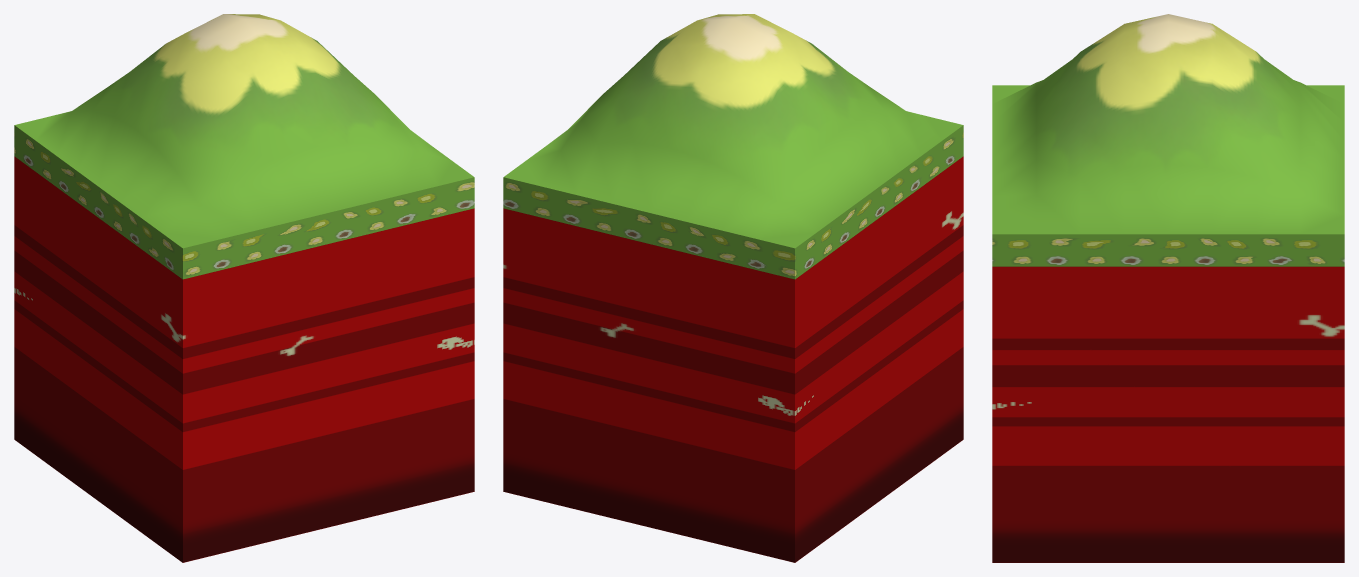
The model's file is block_rect_curved_1x1.obj.
3 renders of one model, left to right at view 1: azimuth 30°, elevation 25°; view 2: azimuth 150°, elevation 25°; view 3: azimuth 270°, elevation 25°, orthographic. The views are drawn at different scales.
Visible parts, largest first — view 1: block_rect_curved_1x1:plat_rect_1x1_std:Mesh polySurface2 polySu, block_rect_curved_1x1:plat_rect_1x1_std:Mesh polySurface3 polySu, polySurface1 block_rect_curved_1x1:plat_rect_1x1_std:Mesh; view 2: block_rect_curved_1x1:plat_rect_1x1_std:Mesh polySurface2 polySu, block_rect_curved_1x1:plat_rect_1x1_std:Mesh polySurface3 polySu, polySurface1 block_rect_curved_1x1:plat_rect_1x1_std:Mesh; view 3: block_rect_curved_1x1:plat_rect_1x1_std:Mesh polySurface2 polySu, block_rect_curved_1x1:plat_rect_1x1_std:Mesh polySurface3 polySu, polySurface1 block_rect_curved_1x1:plat_rect_1x1_std:Mesh.
Part boxes in pixels (x1,y1,x2,y2): block_rect_curved_1x1:plat_rect_1x1_std:Mesh polySurface2 polySu: (14,156,474,562); block_rect_curved_1x1:plat_rect_1x1_std:Mesh polySurface3 polySu: (14,14,473,248); polySurface1 block_rect_curved_1x1:plat_rect_1x1_std:Mesh: (14,125,474,279); block_rect_curved_1x1:plat_rect_1x1_std:Mesh polySurface2 polySu: (503,156,963,562); block_rect_curved_1x1:plat_rect_1x1_std:Mesh polySurface3 polySu: (504,14,963,248); polySurface1 block_rect_curved_1x1:plat_rect_1x1_std:Mesh: (503,125,963,279); block_rect_curved_1x1:plat_rect_1x1_std:Mesh polySurface2 polySu: (992,266,1344,562); block_rect_curved_1x1:plat_rect_1x1_std:Mesh polySurface3 polySu: (992,14,1344,234); polySurface1 block_rect_curved_1x1:plat_rect_1x1_std:Mesh: (992,234,1344,266).
Bounding box in the file's own units: 200 × 293 × 200.
